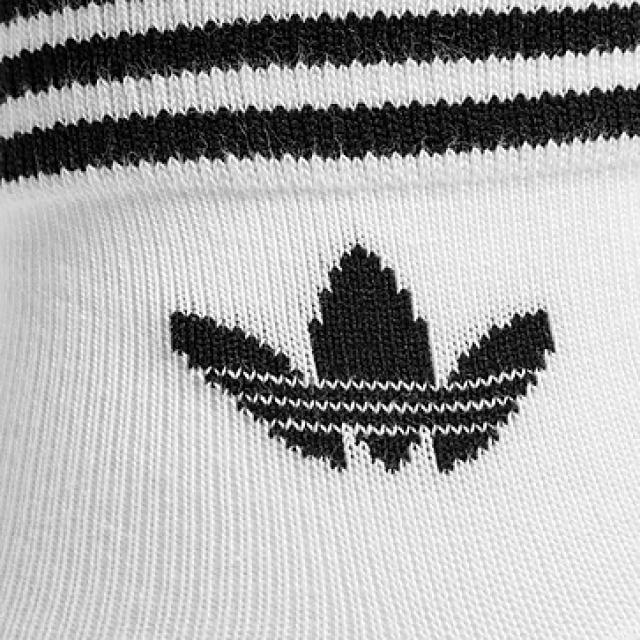sock: (168, 240, 556, 476)
